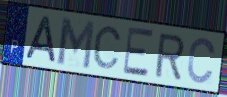A: (23, 14, 58, 65)
C: (186, 36, 217, 85), (92, 25, 123, 71)
E: (122, 27, 155, 79)
M: (56, 16, 97, 72)
R: (153, 33, 186, 81)
